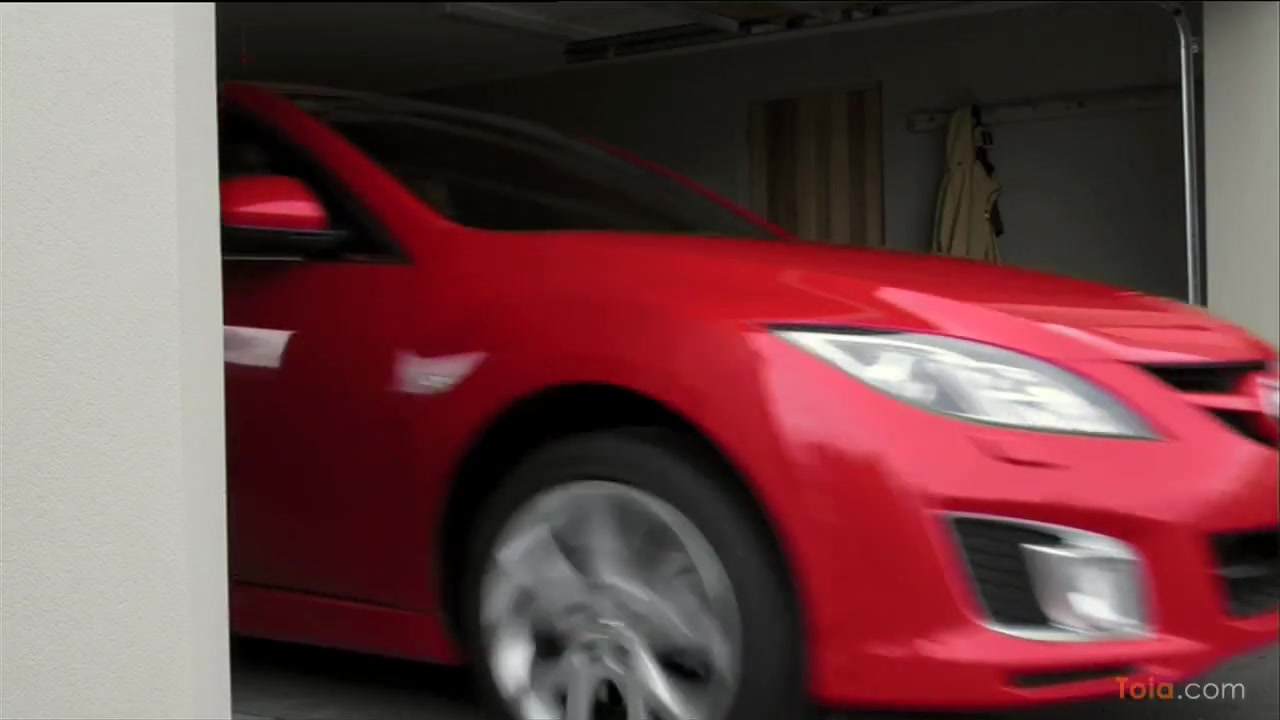car: (215, 73, 1280, 720)
